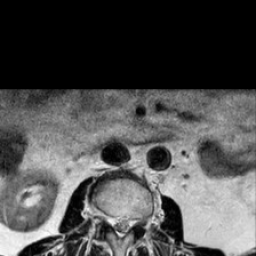CCS_normal: (117, 206, 124, 244)
LFS_normal: (133, 206, 142, 233)
LLS_normal: (124, 207, 133, 235)
RFS_normal: (102, 204, 110, 233)
RLS_normal: (110, 207, 117, 238)
